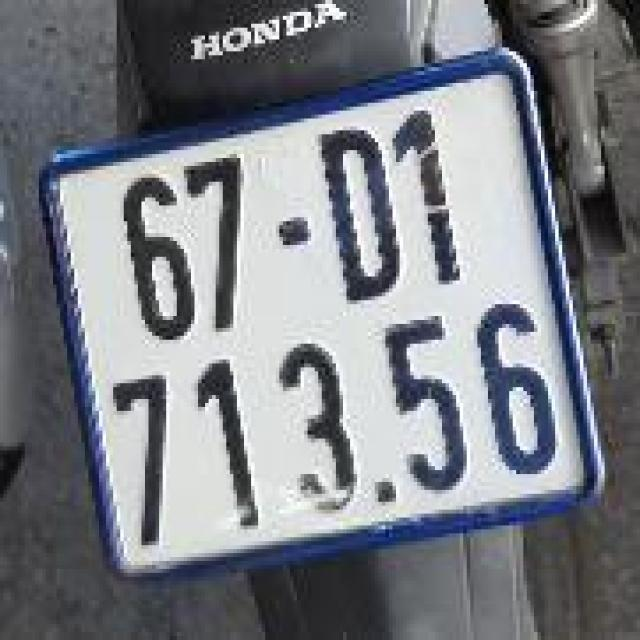1: (379, 101, 469, 300), (182, 352, 269, 543)
3: (262, 331, 369, 525)
5: (373, 305, 480, 504)
6: (459, 289, 565, 486), (110, 166, 203, 353)
7: (100, 366, 203, 558), (180, 145, 274, 344)
D: (306, 116, 418, 319)
